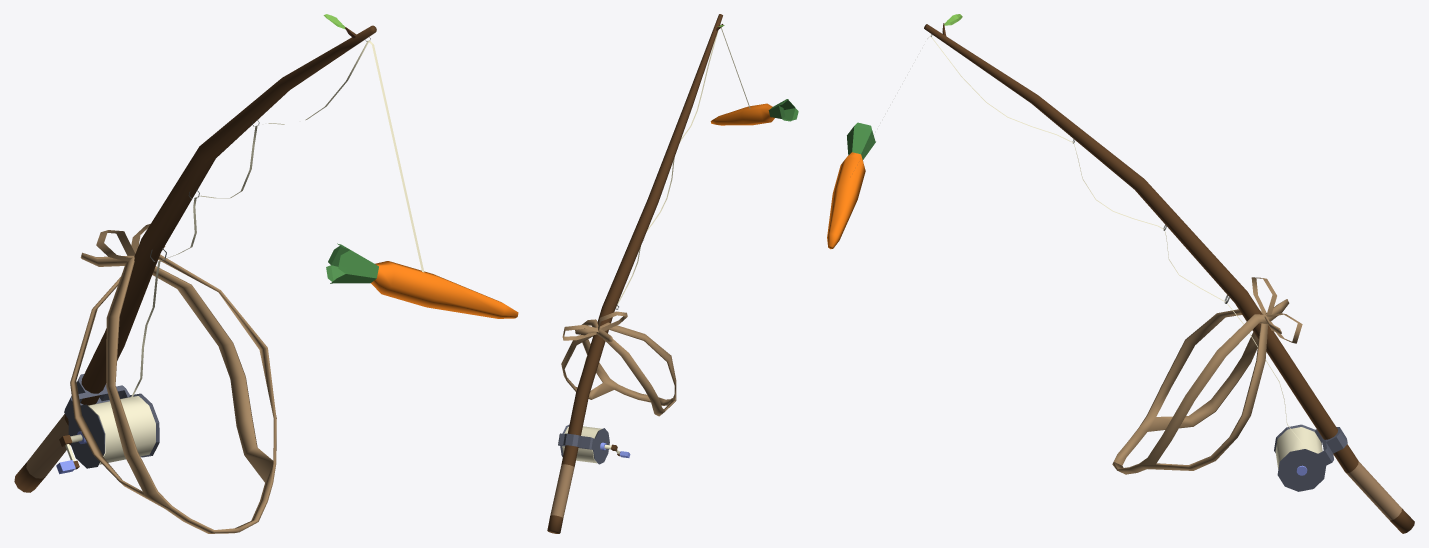
Rendered from carrot.glb.
The picture shows the model from 3 angles, left to right: view 1: azimuth 30°, elevation 25°; view 2: azimuth 150°, elevation 25°; view 3: azimuth 270°, elevation 25°; orthographic projection. The views are drawn at different scales.
Visible parts, largest first — view 1: Cylinder.001; view 2: Cylinder.001; view 3: Cylinder.001.
Part boxes in pixels (x1=…): Cylinder.001: x1=14, y1=14, x2=518, y2=533; Cylinder.001: x1=547, y1=14, x2=798, y2=533; Cylinder.001: x1=827, y1=14, x2=1414, y2=533.
Bounding box in the file's own units: 0.4669 × 1.77 × 1.83.
Materials: 1 (1 with a texture image).
